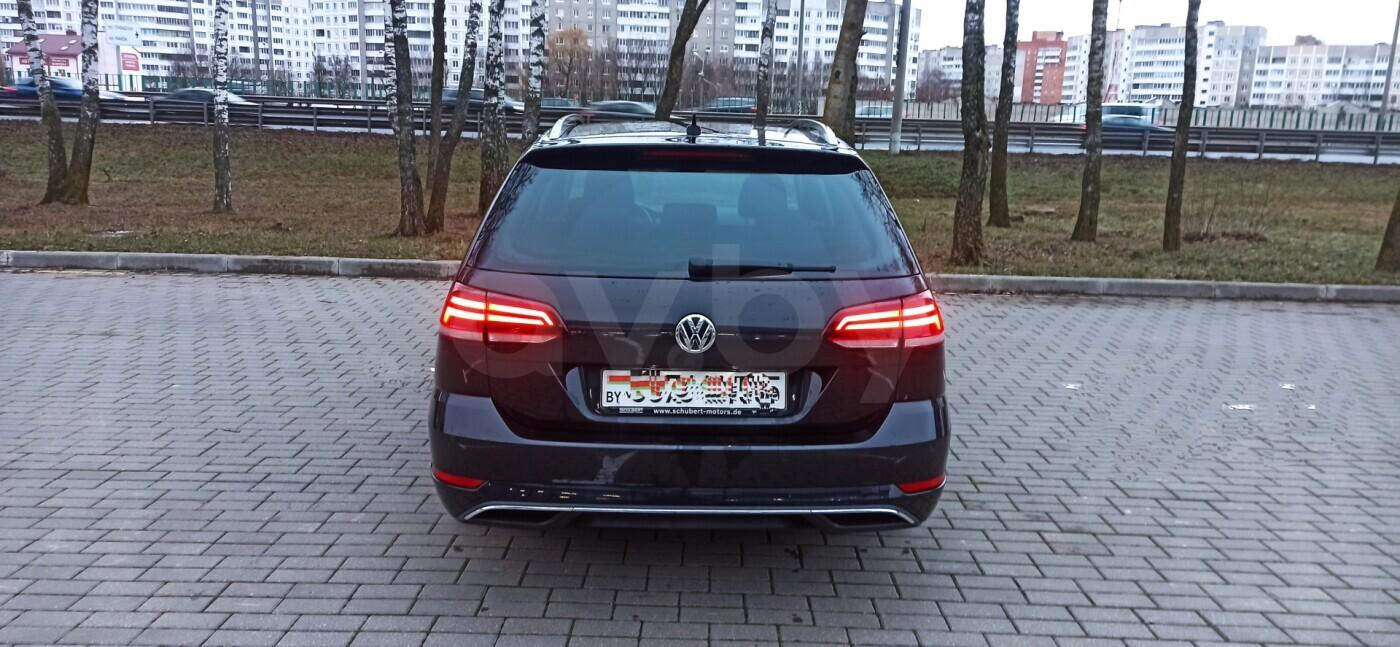Golf_2017-2021: (426, 114, 953, 533)
